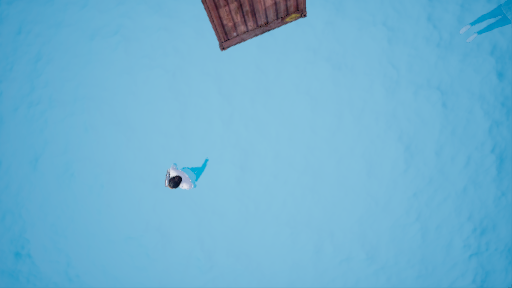person: (157, 157, 221, 207)
